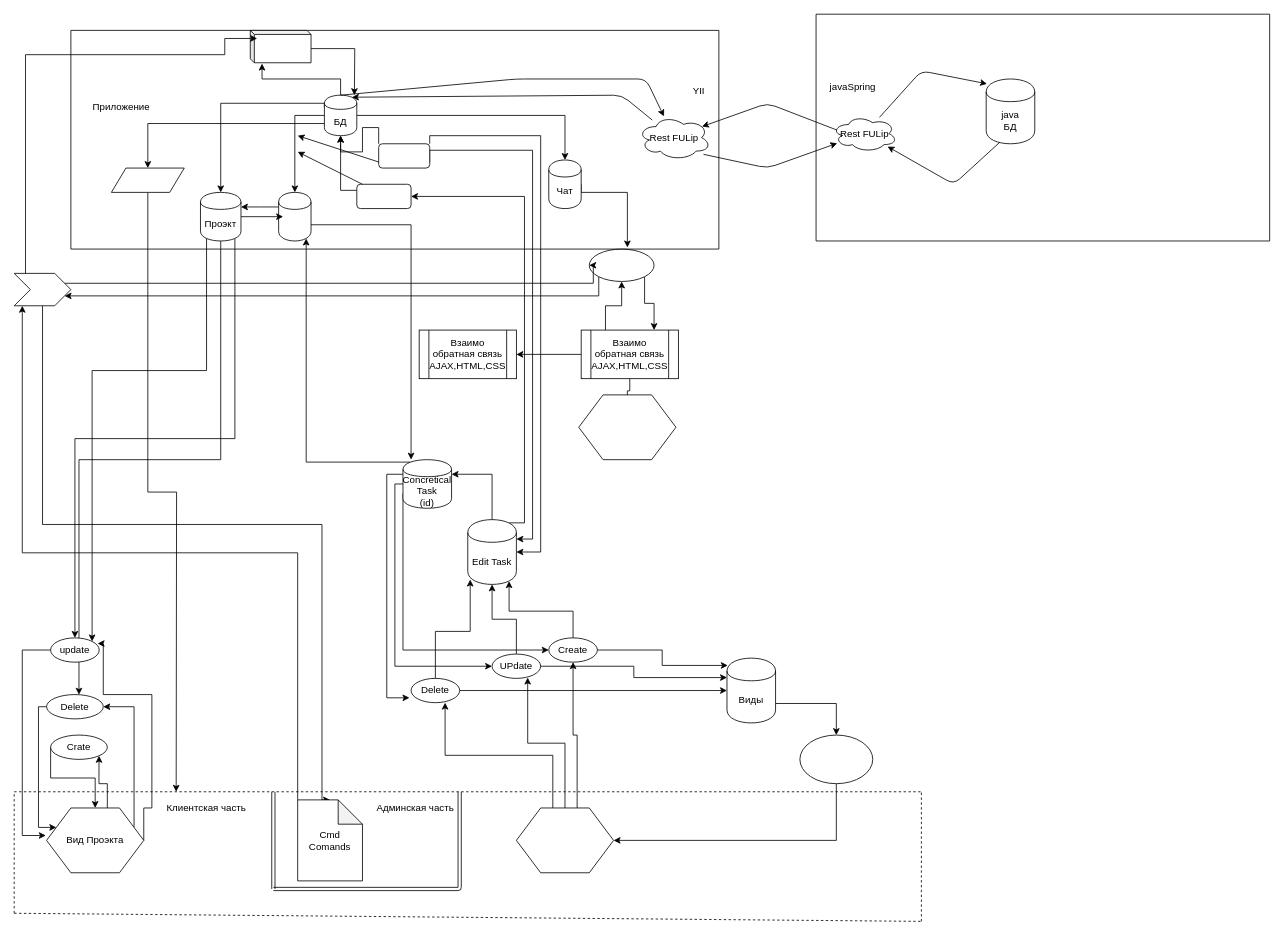
The diagram is 1285 pixels wide and 936 high, and some of its shapes have lost their labels. The box of each missing label's shape, as (x1, y1, x2, y2) in pixels:
CMD: (13, 273, 71, 306)
Task: (278, 192, 311, 241)
Task Editor: (356, 183, 411, 209)
Task Контроллер: (378, 143, 430, 168)
Вид Таска: (516, 807, 614, 873)
Вид чата: (578, 394, 676, 460)
Контроль Доступа: (111, 167, 184, 192)
Миграцыии: (249, 30, 311, 63)
Рендер Таска: (799, 734, 873, 784)
Сокет: (588, 248, 654, 281)
